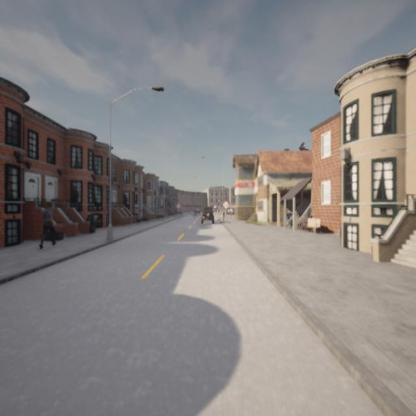person: (37, 201, 59, 250)
